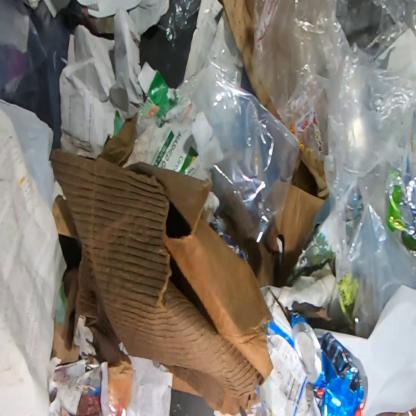cardboard: (49, 110, 330, 416), (223, 0, 285, 123)
metal: (287, 306, 368, 415), (386, 167, 416, 255)
soft_plastic: (123, 0, 415, 338), (0, 0, 115, 148)
